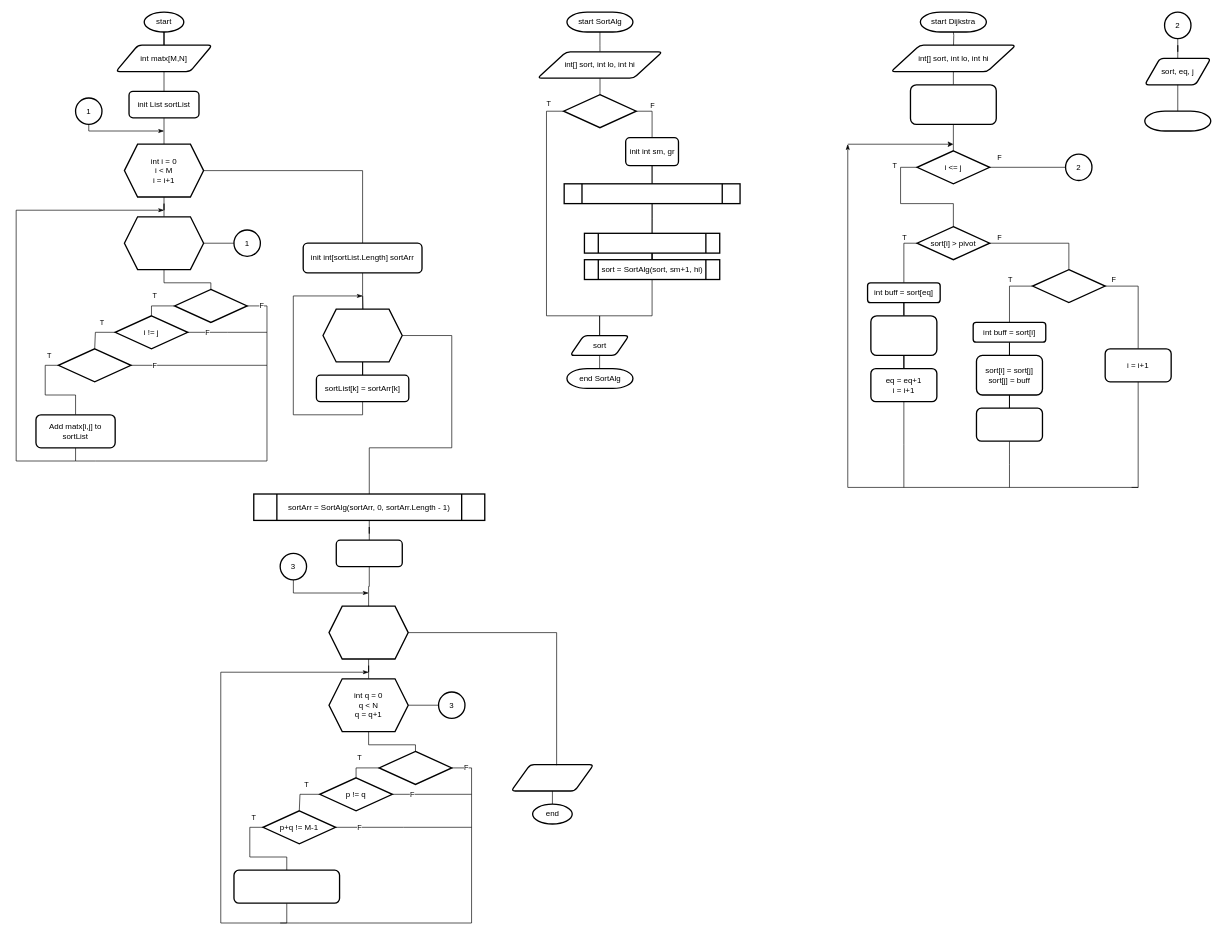
The diagram is 1223 pixels wide and 940 high, and some of its shapes have lost their labels. Each missing label, with the centre of its shape:
"(sort, gr, sm) = Dijkstra(sort, lo, hi)" goes at (x=651, y=193).
"end Dijkstra" goes at (x=1177, y=120).
"i % 2 = 1" goes at (x=211, y=305).
"i+j != M-1" goes at (x=94, y=365).
"int counter = 0" goes at (x=369, y=553).
"int i = l, eq = l, j = r, pivot = sort[l]" goes at (x=953, y=104).
"int j = 0 j < N j = j+1" goes at (x=163, y=243).
"int k = 0 k < sortList.Length k = k+1" goes at (x=362, y=335).
"int p = 0 p < M p = p+1" goes at (x=368, y=632).
"j = j-1" goes at (x=1009, y=424).
"lo >= hi" goes at (x=600, y=111).
"matx[i,j] = sortArr[counter] counter = counter + 1" goes at (x=286, y=886).
"p % 2 = 1" goes at (x=415, y=767).
"sort = SortAlg(sort, lo, gr-1)" goes at (x=651, y=242).
"sort[eq] = sort[i] sort[i] = buff" goes at (x=903, y=335).
"sort[i] < pivot" goes at (x=1069, y=286).
"sortArr, matx" goes at (x=552, y=777).
